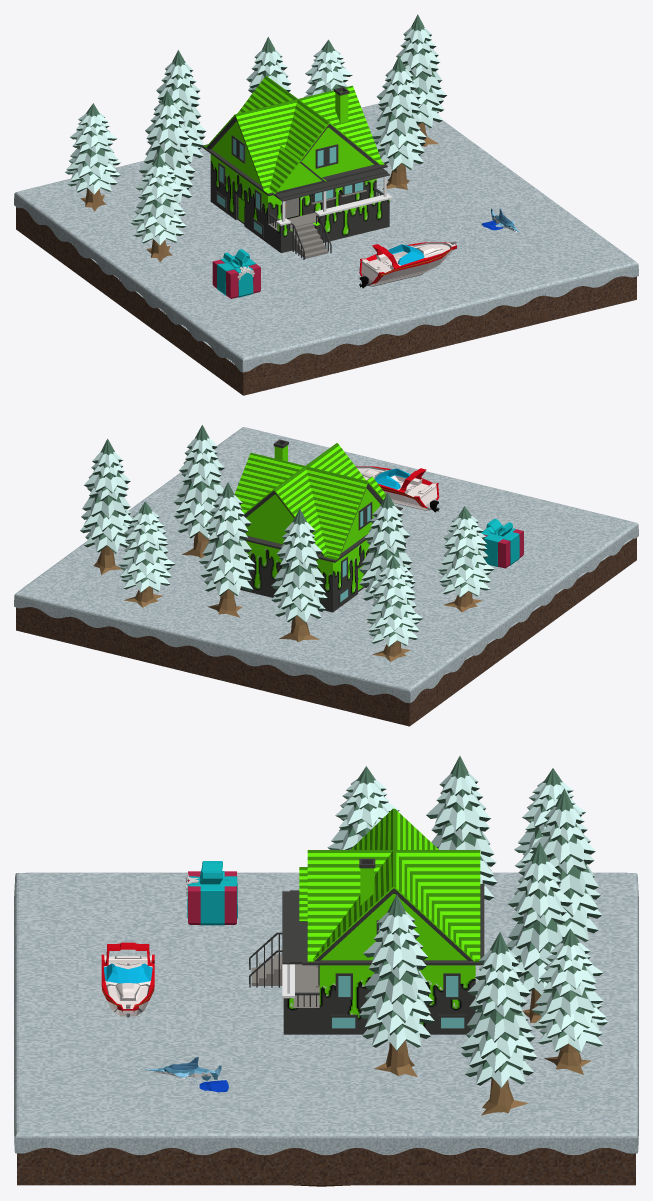
3 views of the same model, one above another, from view 1: azimuth 30°, elevation 25°; view 2: azimuth 150°, elevation 25°; view 3: azimuth 270°, elevation 25° (orthographic). The views are drawn at different scales.
Visible parts, largest first — view 1: Cube.003, Cube.754, VEHICLES_BOAT, OBJRANDOM_GIANT_PRESENT; view 2: Cube.003, Cube.754, VEHICLES_BOAT, OBJRANDOM_GIANT_PRESENT; view 3: Cube.003, Cube.754, VEHICLES_BOAT, OBJRANDOM_GIANT_PRESENT, ANIMAL_PEZ_ESPADA.
Boxes of the visible parts, <box> form: Cube.003: <box>14,14,638,395</box>; Cube.754: <box>202,76,392,259</box>; VEHICLES_BOAT: <box>359,241,456,288</box>; OBJRANDOM_GIANT_PRESENT: <box>212,249,260,298</box>; Cube.003: <box>14,425,638,726</box>; Cube.754: <box>234,439,405,612</box>; VEHICLES_BOAT: <box>356,466,439,512</box>; OBJRANDOM_GIANT_PRESENT: <box>481,518,523,568</box>; Cube.003: <box>14,756,638,1185</box>; Cube.754: <box>249,808,484,1034</box>; VEHICLES_BOAT: <box>101,942,154,1017</box>; OBJRANDOM_GIANT_PRESENT: <box>185,861,237,925</box>; ANIMAL_PEZ_ESPADA: <box>142,1057,228,1092</box>.
Bounding box in the file's own units: 4040 × 1758 × 4040.
Materials: 32 (4 with a texture image).
